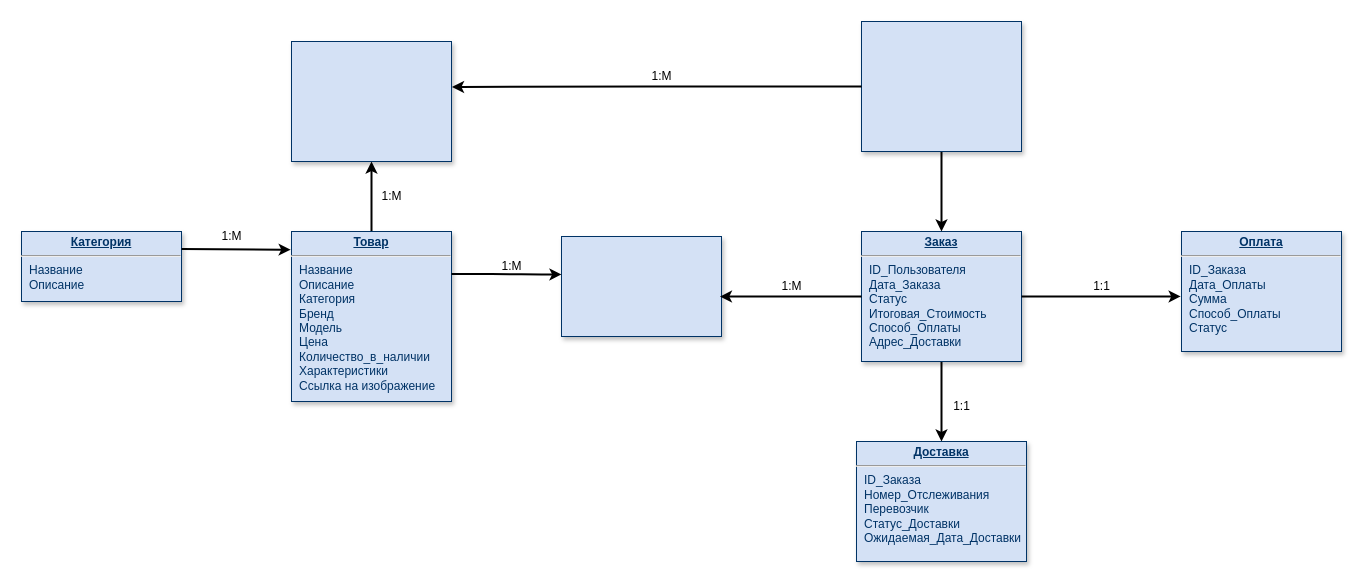
Some shapes in this 1365 by 586 pixel diagram are drawn without their labels. The shapes that lost their labels are listed below. From the top down, each one's centre as x and y in pixels, then its label:
At point (372, 102): "Отзывы ID_Товара ID_Пользователя Оценка Текст_Отзыва Дата_Отзыва".
At point (942, 87): "Пользователь Логин Электронная_Почта Пароль Номер_Телефона Адрес Заказы".
At point (642, 288): "Товары в заказе ID_Заказа ID_Товара Количество Цена_За_Единицу".
